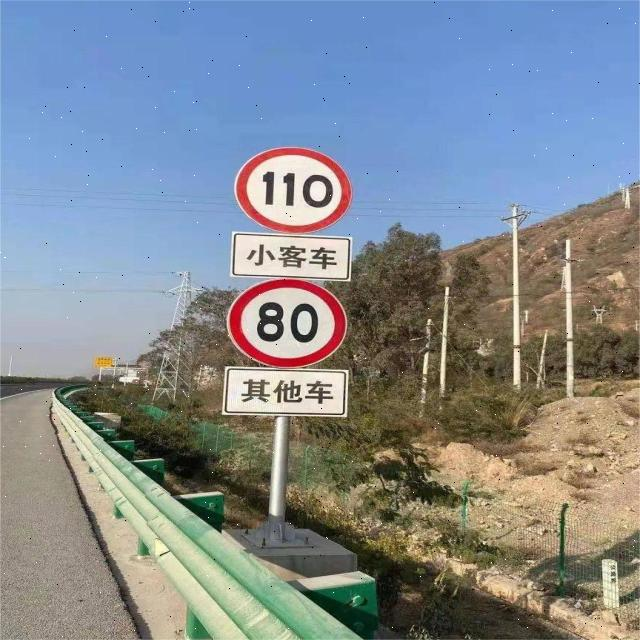speed limit 110: (230, 148, 355, 233)
speed limit 80: (228, 277, 349, 369)
